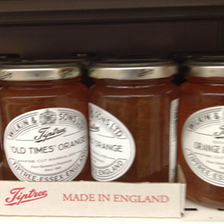jam: (87, 60, 180, 184), (1, 63, 88, 181), (177, 62, 224, 208)
